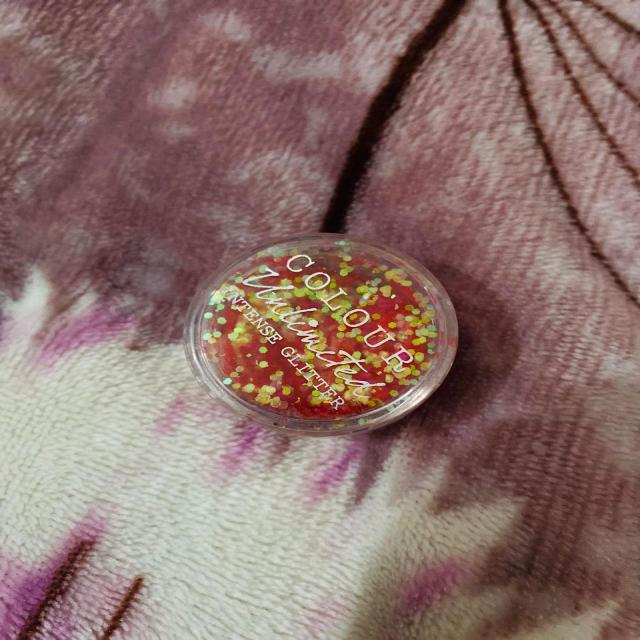eye shade: (178, 212, 473, 443)
